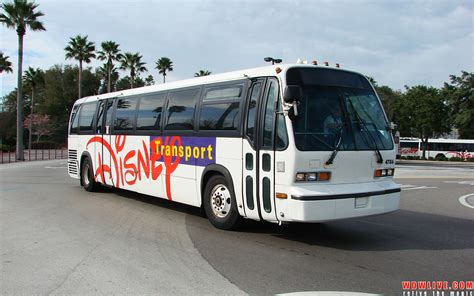bus: (72, 66, 400, 222)
